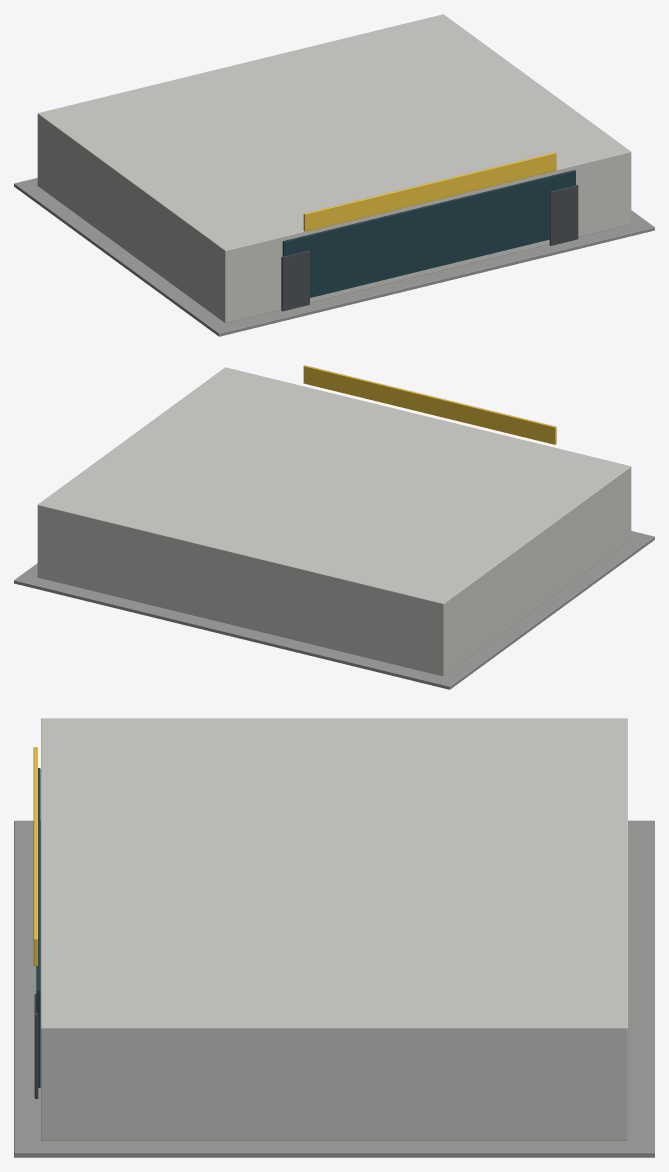
Rendered from Building_Commercial_011.glb.
3 renders of one model, top to bottom at view 1: azimuth 30°, elevation 25°; view 2: azimuth 150°, elevation 25°; view 3: azimuth 270°, elevation 25°, orthographic. The views are drawn at different scales.
Visible parts, largest first — view 1: Building_Commercial_011; view 2: Building_Commercial_011; view 3: Building_Commercial_011.
Boxes of the visible parts, <box> form: Building_Commercial_011: <box>14,14,654,336</box>; Building_Commercial_011: <box>14,365,654,689</box>; Building_Commercial_011: <box>14,718,654,1157</box>.
Bounding box in the file's own units: 21.9 × 4.59 × 17.85.
